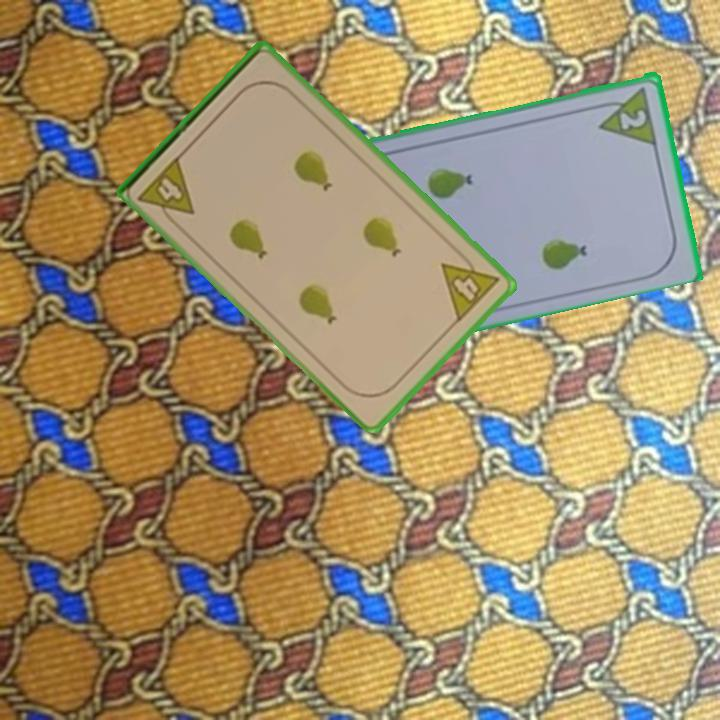2p: (616, 105, 650, 132)
4p: (437, 245, 502, 325), (134, 153, 198, 231)
